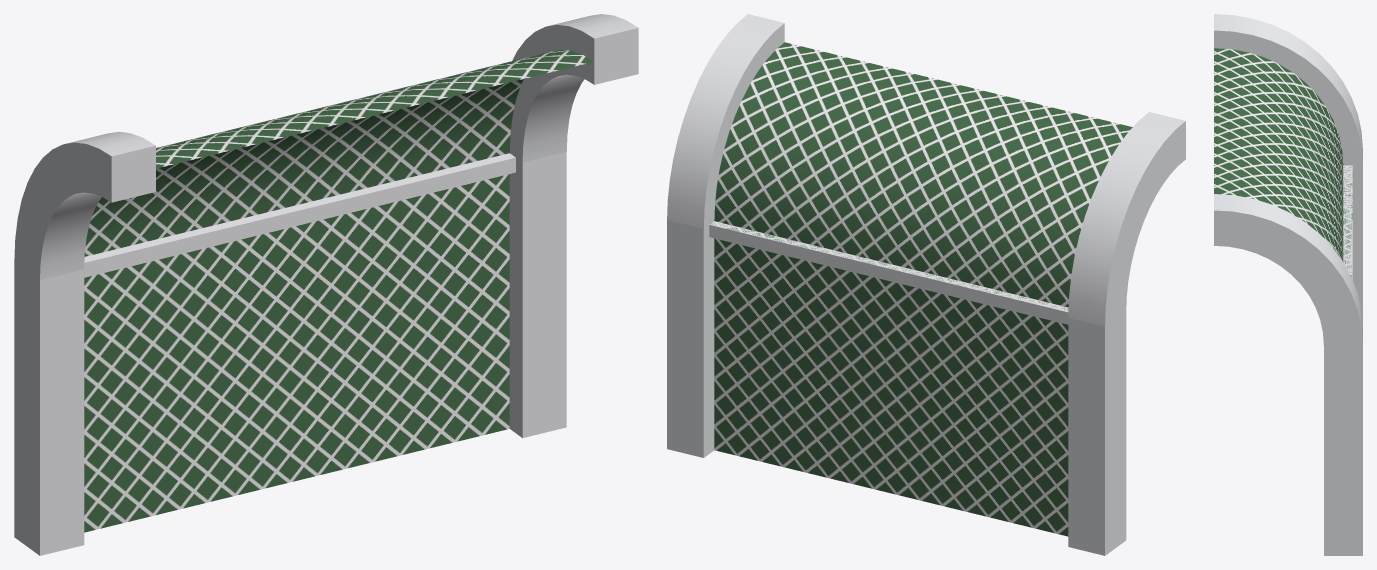
The model's file is fenceCurved.obj.
3 renders of one model, left to right at view 1: azimuth 30°, elevation 25°; view 2: azimuth 150°, elevation 25°; view 3: azimuth 270°, elevation 25°, orthographic. The views are drawn at different scales.
Parts seen in each view (by area): view 1: fenceCurved; view 2: fenceCurved; view 3: fenceCurved.
Boxes of the visible parts, left/top/right/bottom form: fenceCurved: left=14, top=14, right=638, bottom=555; fenceCurved: left=667, top=14, right=1185, bottom=555; fenceCurved: left=1214, top=14, right=1362, bottom=555.
Bounding box in the file's own units: 1 × 0.82 × 0.32.
Materials: 2 (1 with a texture image).
